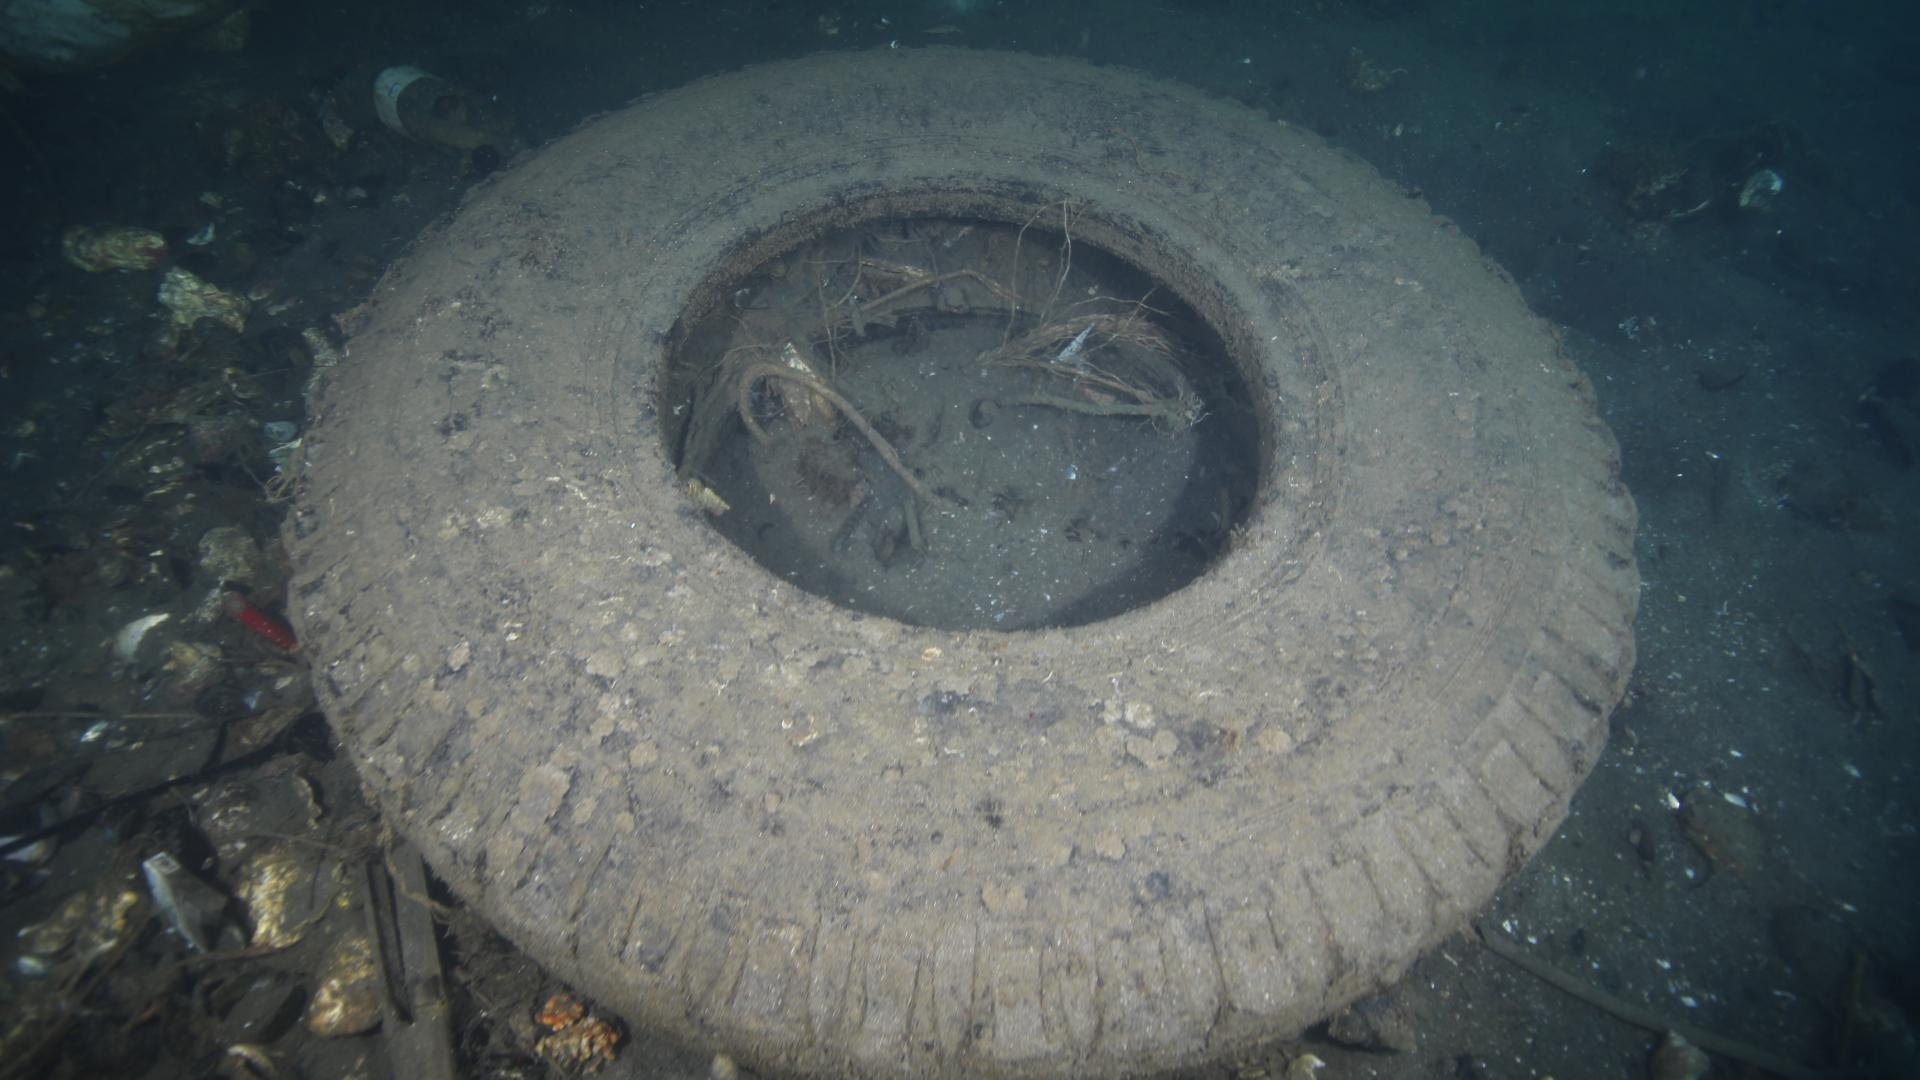tire: (277, 44, 1642, 1080)
